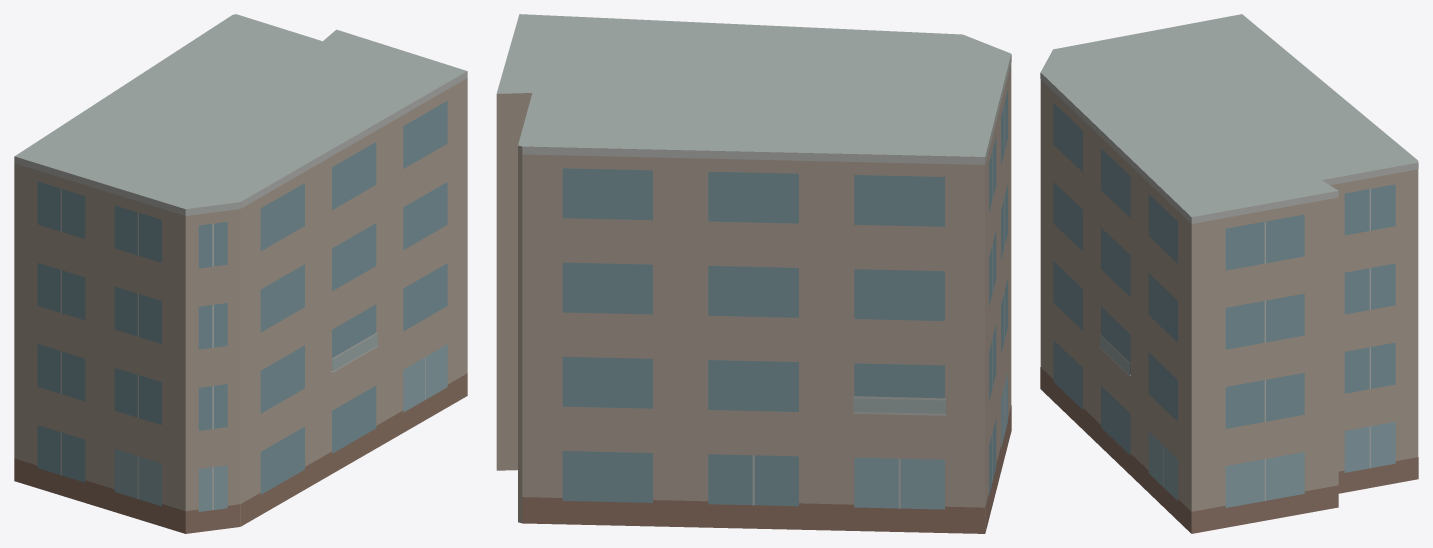
The model's file is survey-upis-32582450.glb.
3 views of the same model, side by side, from view 1: azimuth 30°, elevation 25°; view 2: azimuth 150°, elevation 25°; view 3: azimuth 270°, elevation 25° (orthographic). The views are drawn at different scales.
Visible parts, largest first — view 1: survey-upis-32582450.tmp; view 2: survey-upis-32582450.tmp; view 3: survey-upis-32582450.tmp.
Part boxes in pixels (bbox=[...]): survey-upis-32582450.tmp: bbox=[14, 14, 467, 533]; survey-upis-32582450.tmp: bbox=[496, 14, 1011, 533]; survey-upis-32582450.tmp: bbox=[1040, 14, 1418, 533].
Bounding box in the file's own units: 15.91 × 11.55 × 12.51.
